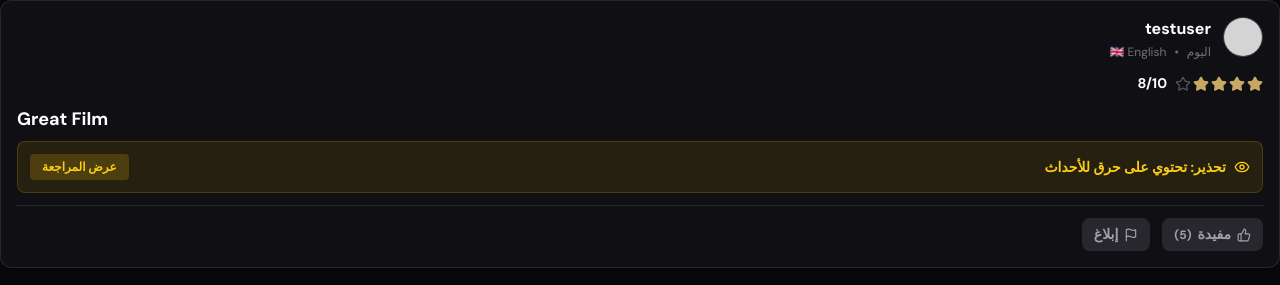
Scenario: ReviewCard - Spoiler warning functionality › should reveal review text when "Show Spoilers" is clicked
The width and height of the screenshot is (1280, 285).
Click the button "عرض المراجعة" at [79, 167], box [30,154,129,180]
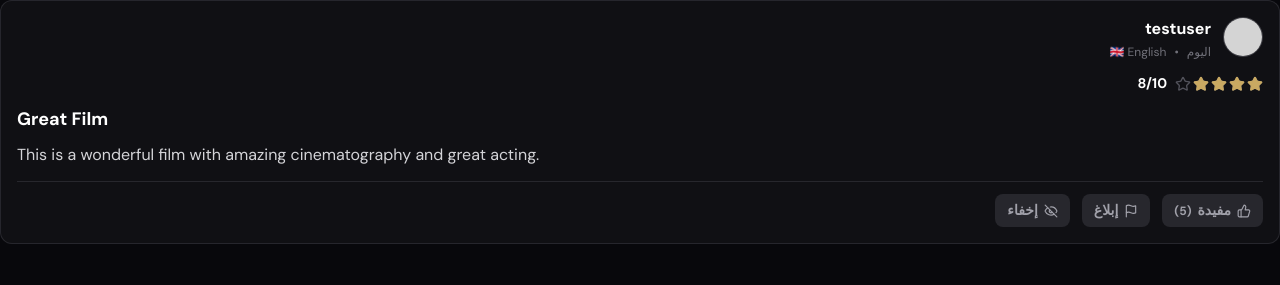
Expected: the text "wonderful film" is shown, [17,144,539,165]
